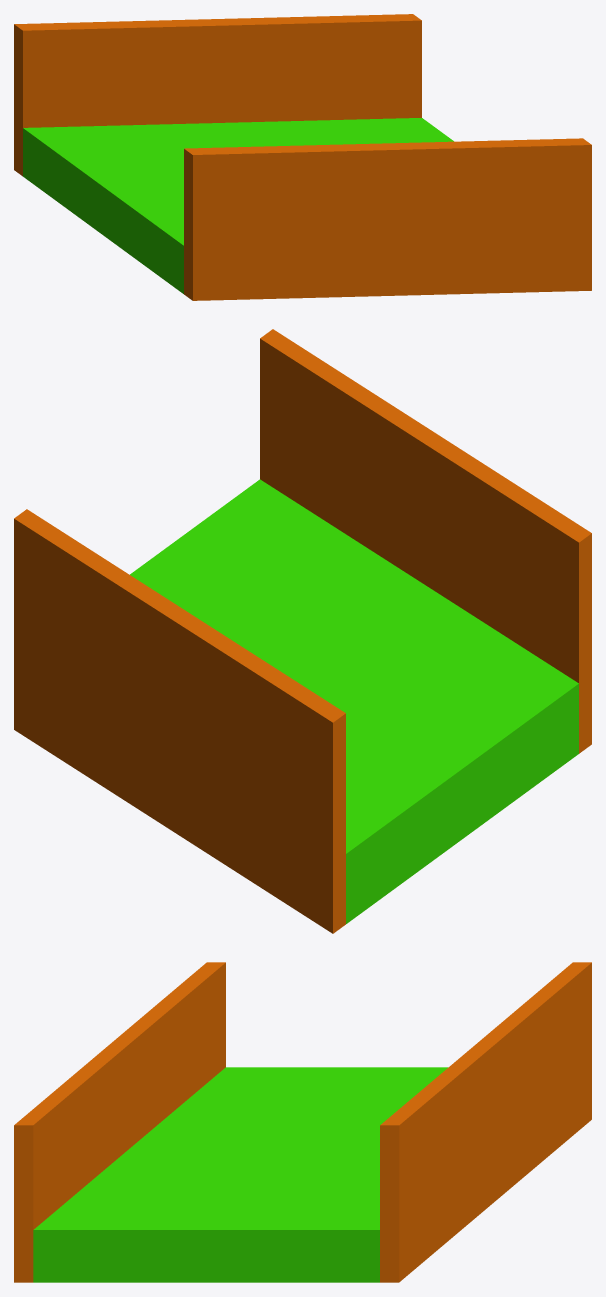
Rendered from zigzag_narrow.fbx.
The picture shows the model from 3 angles, top to bottom: view 1: azimuth 30°, elevation 25°; view 2: azimuth 150°, elevation 25°; view 3: azimuth 270°, elevation 25°; orthographic projection. The views are drawn at different scales.
Parts seen in each view (by area): view 1: Plane; view 2: Plane; view 3: Plane.
Part boxes in pixels (x1,y1,x2,y2): Plane: (14,14,591,300); Plane: (14,329,591,933); Plane: (14,962,591,1282).
Bounding box in the file's own units: 200 × 90 × 300.
